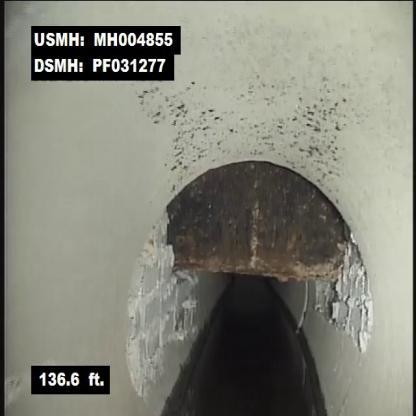utits: (120, 127, 368, 294)
